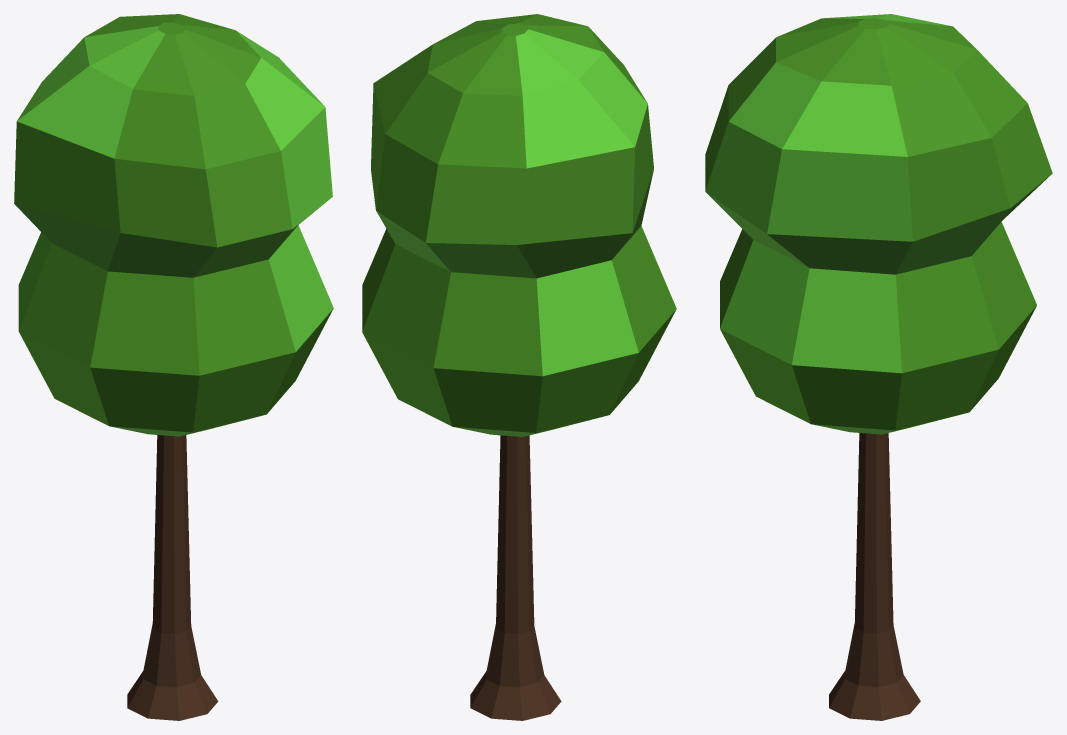
File: Tree 02.fbx
3 views of the same model, side by side, from view 1: azimuth 30°, elevation 25°; view 2: azimuth 150°, elevation 25°; view 3: azimuth 270°, elevation 25° (orthographic).
Parts seen in each view (by area): view 1: Circle.001; view 2: Circle.001; view 3: Circle.001.
Part boxes in pixels (box(x1,y1,x2,y2)): Circle.001: box(14, 14, 333, 720); Circle.001: box(362, 14, 676, 720); Circle.001: box(705, 14, 1052, 720).
Bounding box in the file's own units: 680 × 1579 × 734.
